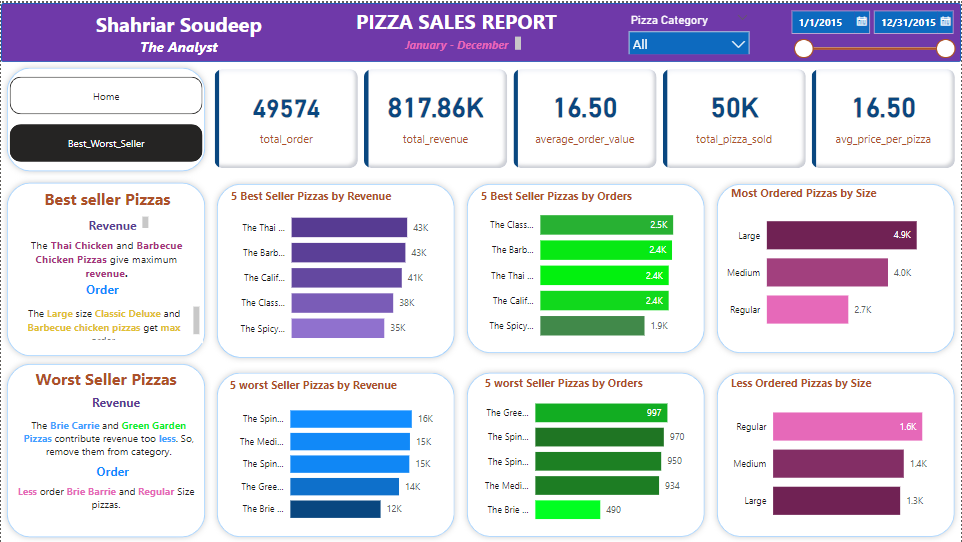

The page's visual inventory and layout, read from the dashboard file:
{"tool":"powerbi","page":{"name":"Best_Worst_Seller","canvas":[1280,720],"ordinal":1},"visuals":[{"type":"cardVisual","fields":{"Data":["pizza_sales.total_order","pizza_sales.total_revenue","pizza_sales.average_order_value","pizza_sales.total_pizza_sold","pizza_sales.avg_price_per_pizza","pizza_sales.avg_price_per_pizza"]},"box":[280,83.8,1000,142.5],"z":0},{"type":"shape","box":[0,0,1280,78.8],"z":1000},{"type":"textbox","box":[452.5,1.2,307.5,51.2],"z":2000},{"type":"shape","box":[280,485,332.5,235],"z":3000},{"type":"shape","box":[613.9,485.2,332.6,234.8],"z":4000},{"type":"shape","box":[0,473.2,280,247],"z":5000},{"type":"shape","box":[0,232.3,280,247],"z":6000},{"type":"shape","box":[0,78.3,280,154.1],"z":7000},{"type":"shape","box":[947.4,485.2,332.6,234.8],"z":8000},{"type":"textbox","box":[533.8,40,165,28.8],"z":9000},{"type":"textbox","box":[300.8,492.8,250.7,35.5],"z":10000},{"type":"textbox","box":[639.5,491.6,250.7,35.5],"z":11000},{"type":"textbox","box":[967.5,491.2,237.5,36.2],"z":12000},{"type":"textbox","box":[13.5,240.9,256.8,39.1],"z":13000},{"type":"textbox","box":[111.2,280,90,27.5],"z":14000},{"type":"textbox","box":[13.8,307.5,255,71.2],"z":15000},{"type":"textbox","box":[12.5,400,256.2,53.8],"z":16000},{"type":"textbox","box":[108.8,365.6,70.9,44],"z":17000},{"type":"textbox","box":[12.2,481.8,256.8,39.1],"z":18000},{"type":"textbox","box":[105.2,517.3,96.6,44],"z":19000},{"type":"textbox","box":[16.2,548.8,253.8,62.5],"z":20000},{"type":"textbox","box":[105,607.5,87.5,51.2],"z":21000},{"type":"textbox","box":[12.2,635.9,256.8,53.8],"z":22000},{"type":"slicer","fields":{"Values":["pizza_sales.order_date"]},"box":[1041.2,0,238.8,78.8],"z":23000},{"type":"slicer","fields":{"Values":["pizza_sales.pizza_category"]},"box":[826.2,8.8,181.2,60],"z":24000},{"type":"shape","box":[280,232.5,332.5,247.5],"z":25000},{"type":"shape","box":[613.8,232.5,332.5,241.2],"z":26000},{"type":"shape","box":[946.2,232.5,332.5,241.2],"z":27000},{"type":"barChart","fields":{"Category":["pizza_sales.pizza_name"],"Y":["pizza_sales.total_revenue"]},"box":[301.2,260,291.2,206.2],"z":28000},{"type":"textbox","box":[301.2,241.2,250,36.2],"z":29000},{"type":"barChart","fields":{"Category":["pizza_sales.pizza_name"],"Y":["pizza_sales.total_revenue"]},"box":[300,517.5,291.2,186.2],"z":30000},{"type":"barChart","fields":{"Category":["pizza_sales.pizza_name"],"Y":["pizza_sales.total_order"]},"box":[632.5,256.2,291.2,206.2],"z":31000},{"type":"barChart","fields":{"Category":["pizza_sales.pizza_name"],"Y":["pizza_sales.total_order"]},"box":[626.2,508.8,291.2,198.8],"z":32000},{"type":"textbox","box":[635,241.2,250,36.2],"z":33000},{"type":"textbox","box":[967.5,237.5,250,36.2],"z":34000},{"type":"barChart","fields":{"Category":["pizza_sales.pizza_size"],"Y":["pizza_sales.total_order"]},"box":[957.5,257.5,291.2,196.2],"z":35000},{"type":"barChart","fields":{"Category":["pizza_sales.pizza_size"],"Y":["pizza_sales.total_order"]},"box":[966.2,512.5,291.2,196.2],"z":36000},{"type":"pageNavigator","box":[11.2,98.8,257.5,50],"z":37000},{"type":"pageNavigator","box":[11.2,161.2,257.5,50],"z":38000},{"type":"textbox","box":[83.8,5,307.5,70],"z":38001}]}

Visuals, with their boxes in screenshot pixels (x1, y1, x2, y2), scaled from the page's 1280x720 canvas onto the 962x542 screenshot:
cardVisual - pizza_sales.total_order x pizza_sales.total_revenue: BBox(210, 63, 961, 170)
shape: BBox(0, 0, 961, 59)
textbox: BBox(340, 1, 571, 39)
shape: BBox(210, 365, 460, 541)
shape: BBox(461, 365, 711, 541)
shape: BBox(0, 356, 210, 541)
shape: BBox(0, 175, 210, 361)
shape: BBox(0, 59, 210, 175)
shape: BBox(712, 365, 961, 541)
textbox: BBox(401, 30, 525, 52)
textbox: BBox(226, 371, 414, 398)
textbox: BBox(481, 370, 669, 397)
textbox: BBox(727, 370, 906, 397)
textbox: BBox(10, 181, 203, 211)
textbox: BBox(84, 211, 151, 231)
textbox: BBox(10, 231, 202, 285)
textbox: BBox(9, 301, 202, 342)
textbox: BBox(82, 275, 135, 308)
textbox: BBox(9, 363, 202, 392)
textbox: BBox(79, 389, 152, 423)
textbox: BBox(12, 413, 203, 460)
textbox: BBox(79, 457, 145, 496)
textbox: BBox(9, 479, 202, 519)
slicer - pizza_sales.order_date: BBox(783, 0, 961, 59)
slicer - pizza_sales.pizza_category: BBox(621, 7, 757, 52)
shape: BBox(210, 175, 460, 361)
shape: BBox(461, 175, 711, 357)
shape: BBox(711, 175, 961, 357)
barChart - pizza_sales.pizza_name x pizza_sales.total_revenue: BBox(226, 196, 445, 351)
textbox: BBox(226, 182, 414, 209)
barChart - pizza_sales.pizza_name x pizza_sales.total_revenue: BBox(225, 390, 444, 530)
barChart - pizza_sales.pizza_name x pizza_sales.total_order: BBox(475, 193, 694, 348)
barChart - pizza_sales.pizza_name x pizza_sales.total_order: BBox(471, 383, 689, 533)
textbox: BBox(477, 182, 665, 209)
textbox: BBox(727, 179, 915, 206)
barChart - pizza_sales.pizza_size x pizza_sales.total_order: BBox(720, 194, 938, 342)
barChart - pizza_sales.pizza_size x pizza_sales.total_order: BBox(726, 386, 945, 533)
pageNavigator: BBox(8, 74, 202, 112)
pageNavigator: BBox(8, 121, 202, 159)
textbox: BBox(63, 4, 294, 56)
